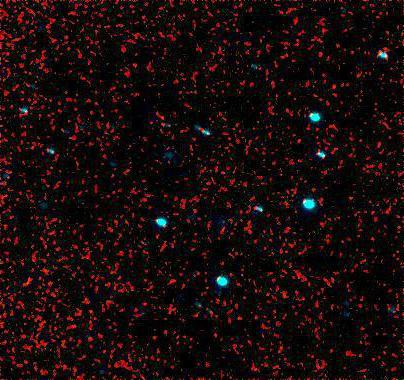star: (147, 100, 177, 130)
